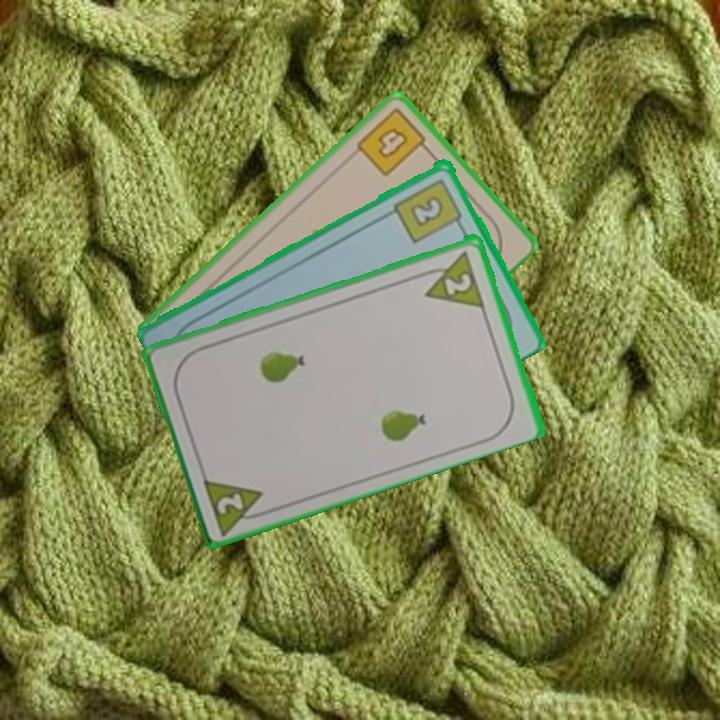2b: (390, 175, 467, 246)
2p: (199, 473, 274, 536), (441, 269, 475, 298)
4b: (352, 103, 434, 179)
